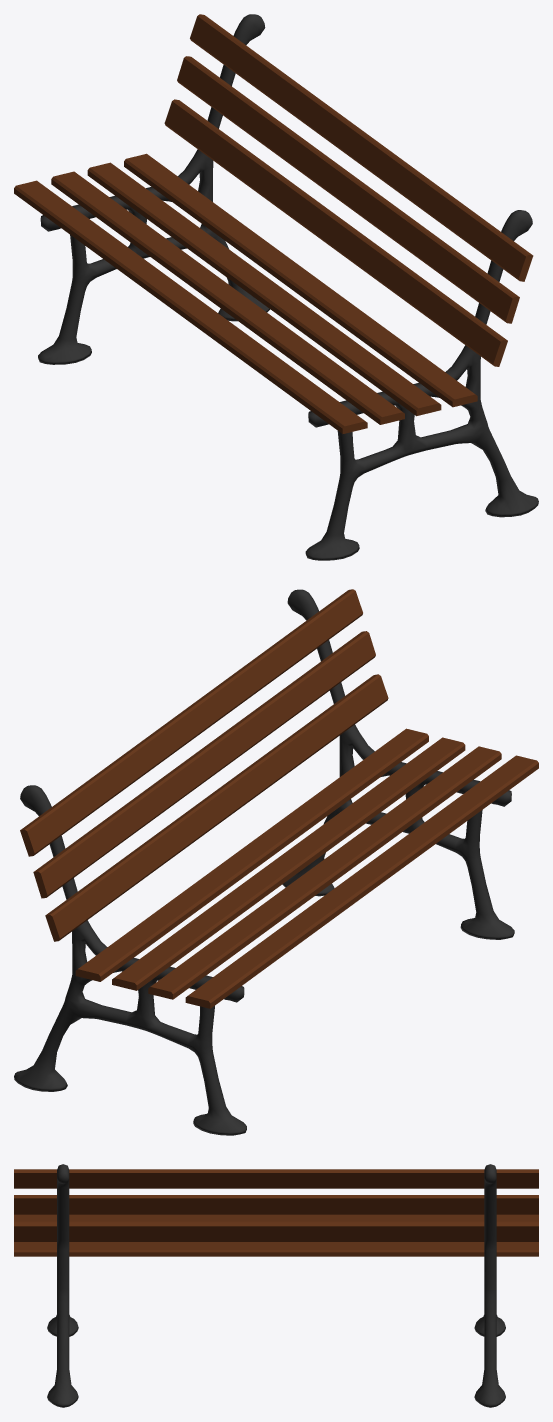
File: Bench.fbx
The picture shows the model from 3 angles, top to bottom: view 1: azimuth 30°, elevation 25°; view 2: azimuth 150°, elevation 25°; view 3: azimuth 270°, elevation 25°; orthographic projection. The views are drawn at different scales.
Parts seen in each view (by area): view 1: pCube23; view 2: pCube23; view 3: pCube23.
Boxes of the visible parts, x1,y1,x2,y2 form: pCube23: [14, 14, 538, 560]; pCube23: [14, 589, 538, 1135]; pCube23: [14, 1164, 538, 1407].
Bounding box in the file's own units: 77.7 × 95.54 × 192.
